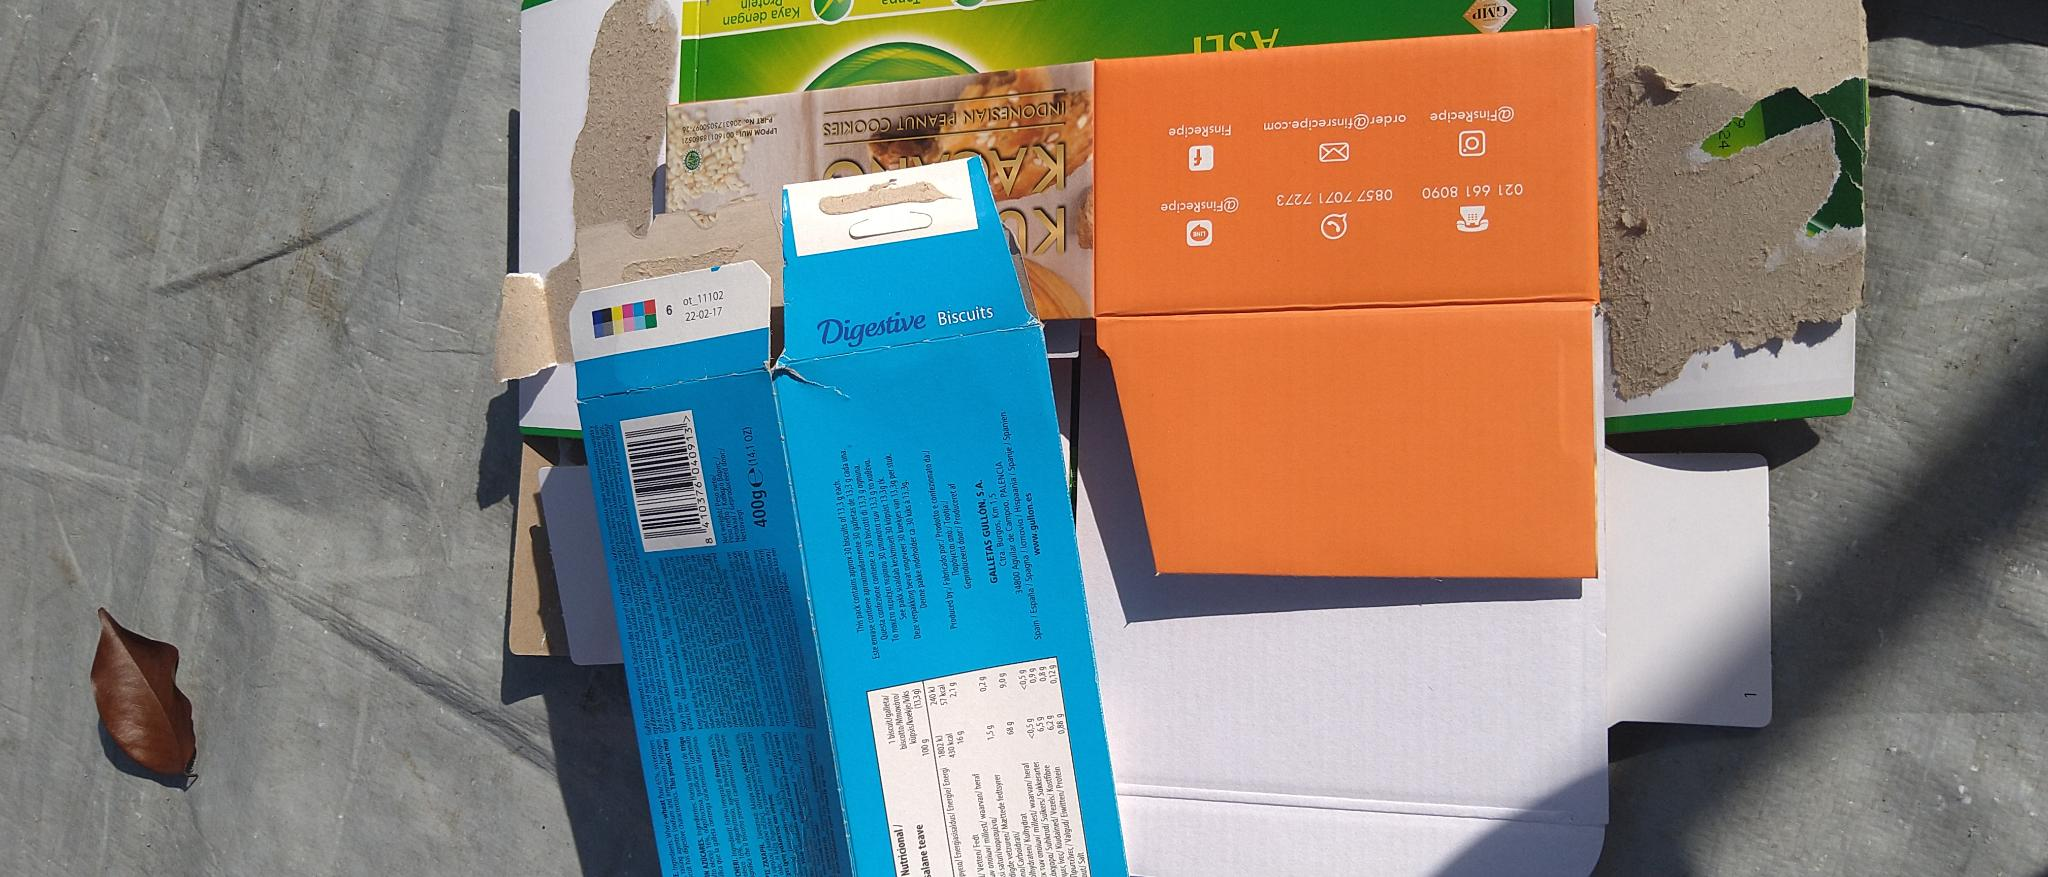cardboard: (0, 580, 692, 877), (556, 486, 876, 877)
